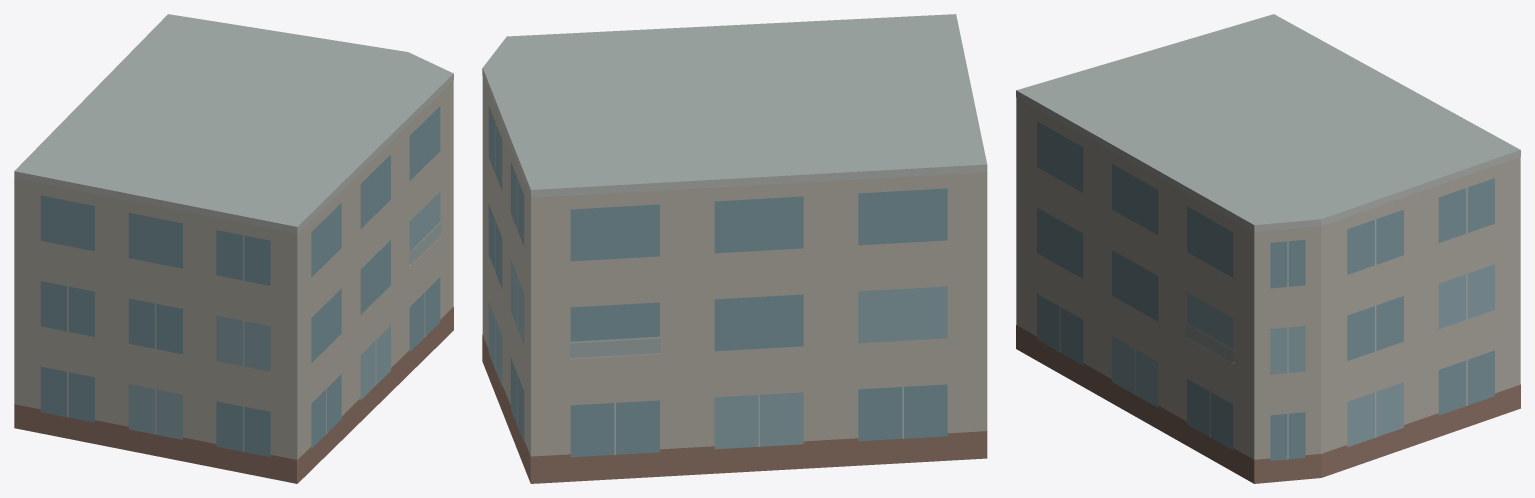
Rendered from survey-upis-32777441.glb.
3 views of the same model, side by side, from view 1: azimuth 30°, elevation 25°; view 2: azimuth 150°, elevation 25°; view 3: azimuth 270°, elevation 25° (orthographic). The views are drawn at different scales.
Parts seen in each view (by area): view 1: survey-upis-32777441.tmp; view 2: survey-upis-32777441.tmp; view 3: survey-upis-32777441.tmp.
Part boxes in pixels (bbox=[...]): survey-upis-32777441.tmp: bbox=[14, 14, 453, 483]; survey-upis-32777441.tmp: bbox=[482, 14, 987, 483]; survey-upis-32777441.tmp: bbox=[1016, 14, 1520, 483].
Bounding box in the file's own units: 16.03 × 9.15 × 16.18.
